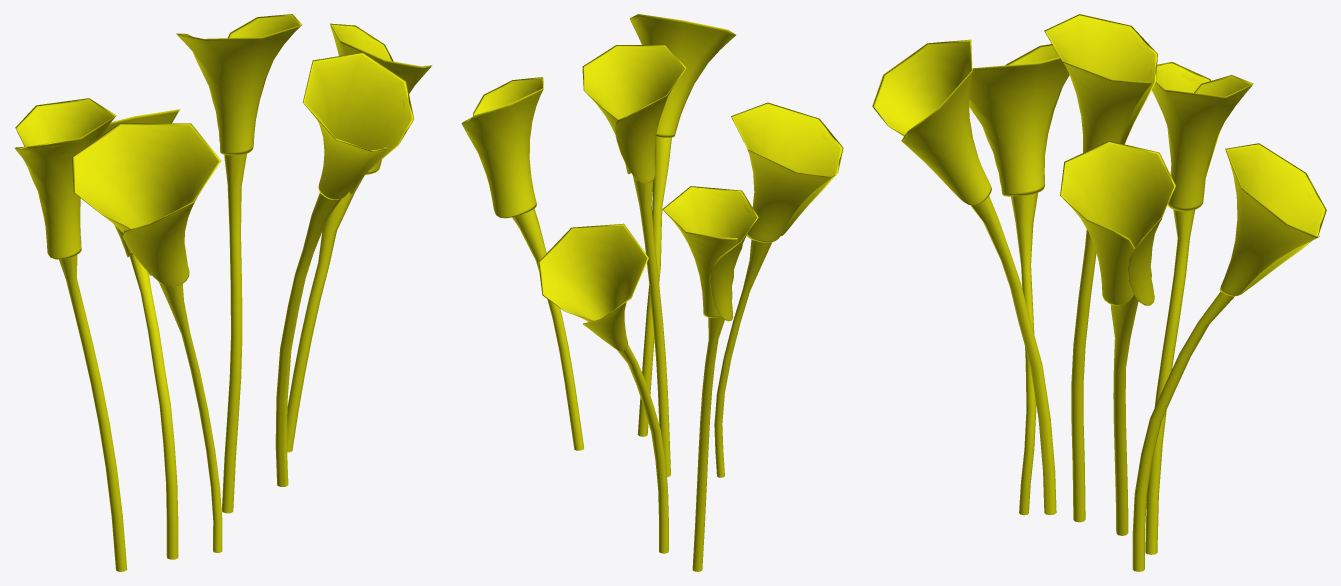
Rendered from Swamp_Tile_Flowers.fbx.
3 renders of one model, left to right at view 1: azimuth 30°, elevation 25°; view 2: azimuth 150°, elevation 25°; view 3: azimuth 270°, elevation 25°, orthographic. The views are drawn at different scales.
Parts seen in each view (by area): view 1: Flowers_Low; view 2: Flowers_Low; view 3: Flowers_Low.
Part boxes in pixels (<box>): Flowers_Low: <box>15,14,432,571</box>; Flowers_Low: <box>461,14,843,571</box>; Flowers_Low: <box>872,14,1326,571</box>.
Size of the model in its own units: 1.98 by 2.72 by 1.98.
